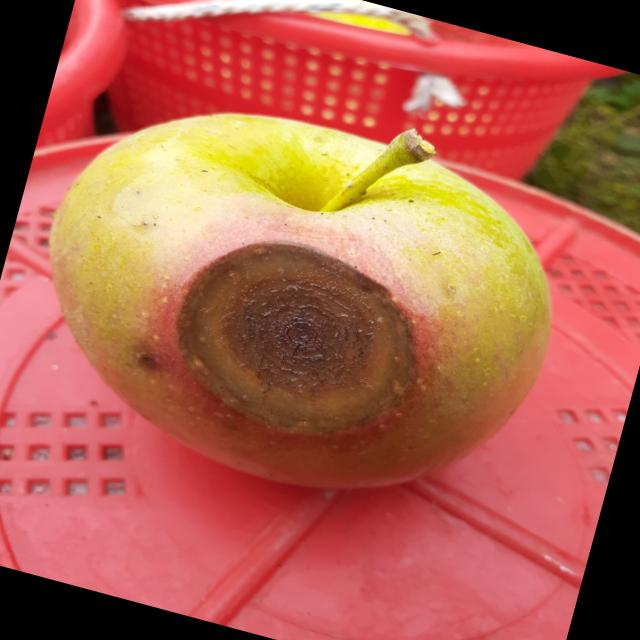rotten: (1, 44, 603, 552)
